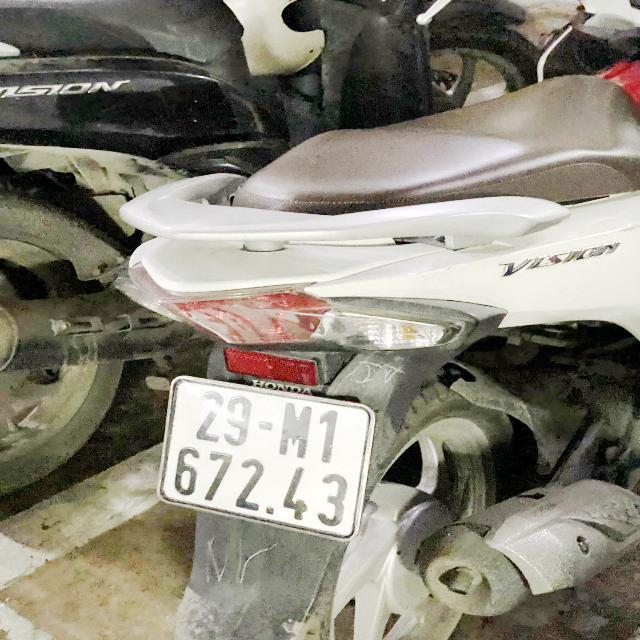license_plate: (161, 376, 373, 536)
